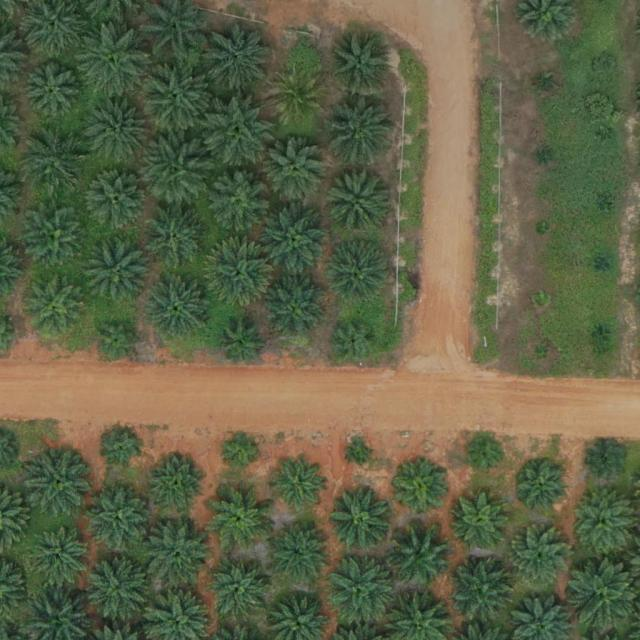Healthy: (205, 24, 276, 95), (204, 96, 275, 167), (447, 556, 518, 627), (206, 242, 276, 313), (327, 95, 397, 166), (260, 204, 330, 275), (142, 60, 212, 131), (140, 137, 210, 208), (79, 26, 149, 97), (326, 552, 396, 623), (325, 170, 388, 233), (264, 278, 327, 341), (147, 277, 210, 340), (30, 451, 93, 514), (87, 486, 150, 549), (87, 556, 150, 619), (210, 489, 273, 552), (207, 561, 270, 624), (507, 528, 570, 591), (572, 491, 635, 554), (329, 33, 391, 96), (208, 172, 270, 235), (145, 210, 207, 273), (86, 99, 148, 162), (87, 170, 149, 233), (87, 238, 149, 301), (24, 128, 86, 191), (25, 206, 87, 269), (25, 276, 87, 339), (27, 526, 89, 589), (147, 522, 209, 585), (268, 521, 330, 584), (330, 487, 393, 549), (329, 242, 391, 304), (267, 141, 329, 203), (390, 523, 452, 585), (153, 457, 208, 512), (271, 459, 326, 514), (395, 464, 450, 519), (454, 493, 509, 548), (516, 461, 571, 516), (25, 66, 79, 121), (219, 322, 266, 369)
Small: (332, 318, 379, 365), (96, 318, 143, 365), (221, 430, 260, 470), (586, 442, 625, 482), (104, 430, 143, 469), (467, 438, 506, 477), (595, 57, 619, 81), (350, 443, 373, 467), (600, 129, 616, 144), (597, 201, 612, 217), (538, 149, 553, 165), (535, 223, 551, 238), (535, 345, 550, 361), (597, 257, 613, 272), (593, 325, 608, 341), (538, 79, 553, 94), (533, 293, 548, 308)
Yellow: (270, 73, 325, 128)
